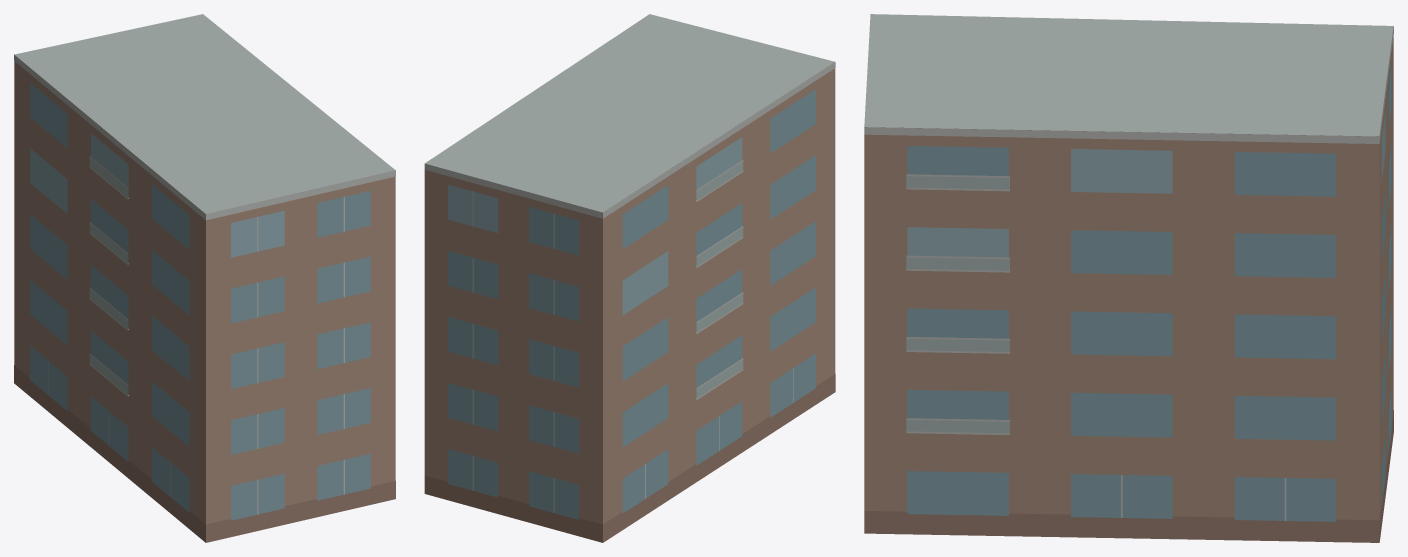
The model's file is survey-upis-32527827.glb.
The picture shows the model from 3 angles, left to right: view 1: azimuth 30°, elevation 25°; view 2: azimuth 150°, elevation 25°; view 3: azimuth 270°, elevation 25°; orthographic projection. The views are drawn at different scales.
Visible parts, largest first — view 1: survey-upis-32527827.tmp; view 2: survey-upis-32527827.tmp; view 3: survey-upis-32527827.tmp.
Boxes of the visible parts, box(x1,y1,x2,y2) form: survey-upis-32527827.tmp: box(14, 14, 395, 542); survey-upis-32527827.tmp: box(424, 14, 835, 542); survey-upis-32527827.tmp: box(864, 14, 1393, 542).
Size of the model in its own units: 8.41 by 13 by 15.36.
